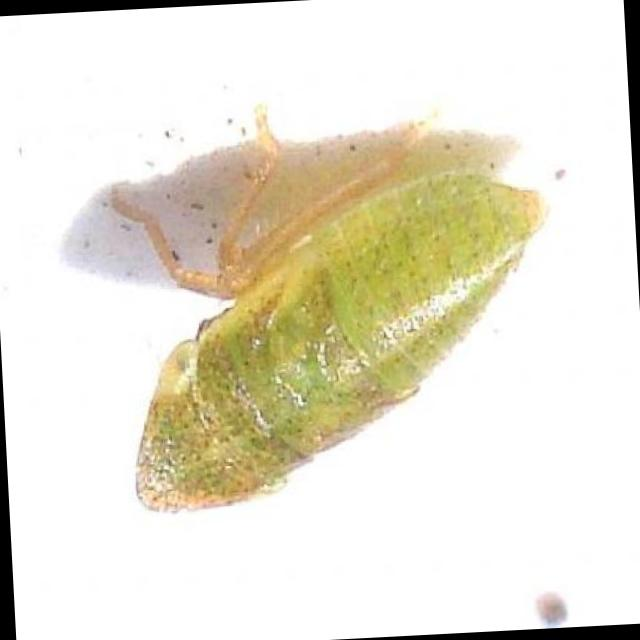green-leafhopper: (118, 93, 560, 516)
